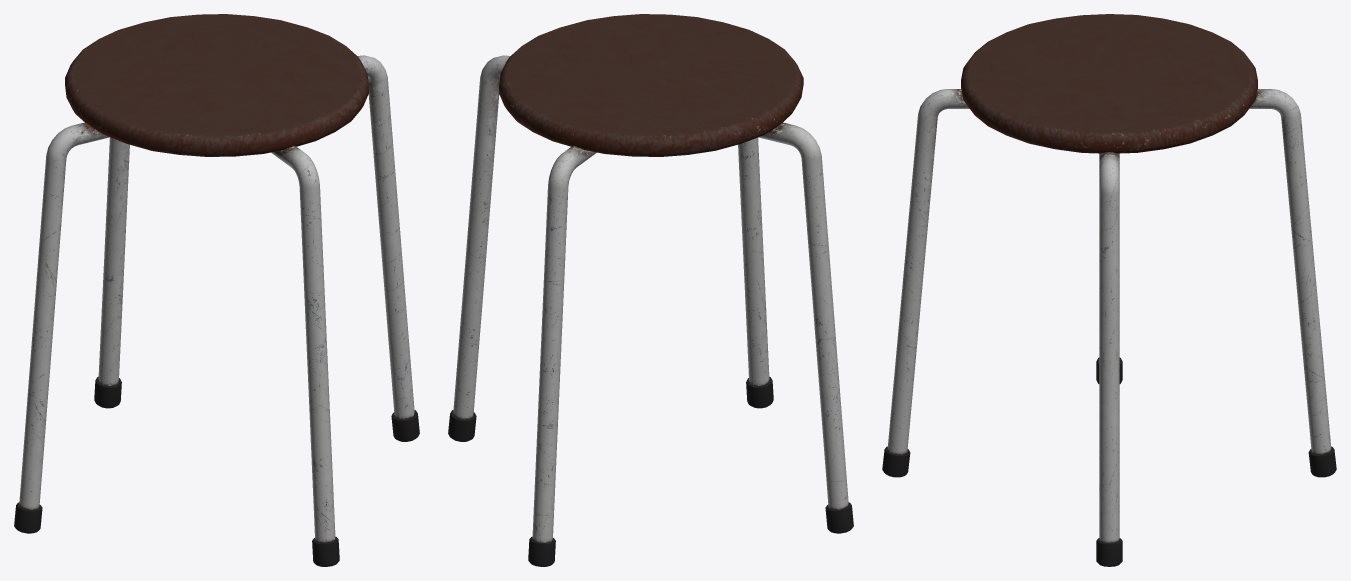
File: SM_Stool.fbx
The picture shows the model from 3 angles, left to right: view 1: azimuth 30°, elevation 25°; view 2: azimuth 150°, elevation 25°; view 3: azimuth 270°, elevation 25°; orthographic projection. The views are drawn at different scales.
Visible parts, largest first — view 1: SM_Stool_LOD0; view 2: SM_Stool_LOD0; view 3: SM_Stool_LOD0.
Boxes of the visible parts, x1=… form: SM_Stool_LOD0: x1=14, y1=14, x2=419, y2=566; SM_Stool_LOD0: x1=448, y1=14, x2=853, y2=566; SM_Stool_LOD0: x1=882, y1=14, x2=1336, y2=566.
Bounding box in the file's own units: 48.96 × 48.96 × 47.62.
Materials: 1 (1 with a texture image).
